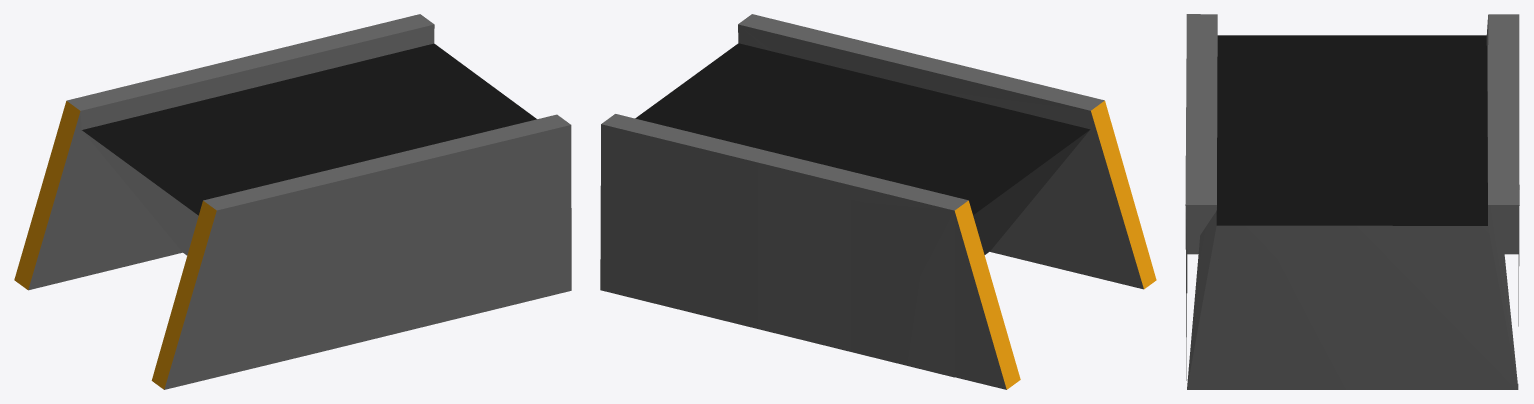
Rendered from ConveyorBeltEndcap.glb.
3 renders of one model, left to right at view 1: azimuth 30°, elevation 25°; view 2: azimuth 150°, elevation 25°; view 3: azimuth 270°, elevation 25°, orthographic. The views are drawn at different scales.
Parts seen in each view (by area): view 1: Endcap1.001; view 2: Endcap1.001; view 3: Endcap1.001.
Part boxes in pixels (x1,y1,x2,y2): Endcap1.001: [14, 14, 571, 389]; Endcap1.001: [600, 14, 1156, 389]; Endcap1.001: [1185, 14, 1519, 389].
Bounding box in the file's own units: 2 × 0.7849 × 1.28.
